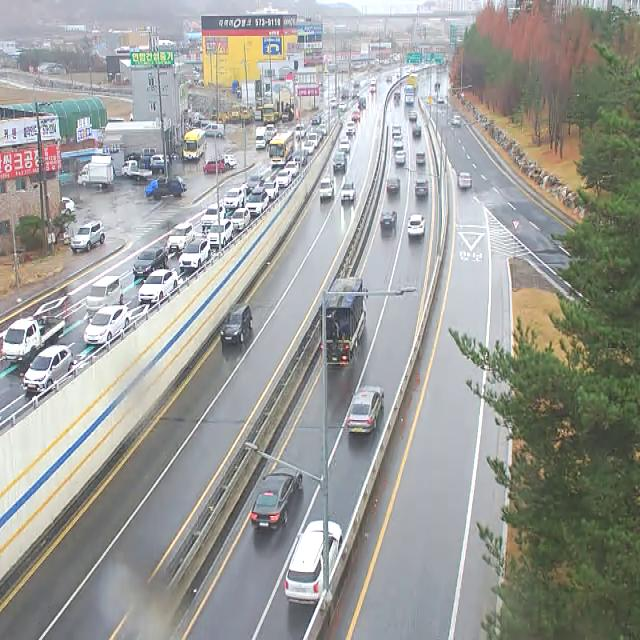Bus: (269, 132, 295, 166), (182, 128, 206, 160), (404, 85, 416, 105)
Car: (285, 522, 343, 604), (251, 469, 303, 528), (23, 346, 74, 391), (84, 305, 130, 345), (346, 386, 385, 433), (220, 304, 254, 344), (138, 270, 178, 304), (86, 276, 120, 312), (71, 220, 105, 254), (133, 247, 168, 276), (179, 239, 211, 269), (168, 224, 195, 250), (207, 220, 232, 248), (245, 188, 269, 214), (201, 206, 226, 229), (223, 188, 244, 208), (408, 215, 426, 237), (232, 209, 250, 231), (201, 123, 225, 138), (202, 159, 224, 174), (333, 152, 347, 175), (380, 210, 397, 228), (275, 170, 292, 188), (262, 183, 279, 200), (341, 183, 356, 202), (61, 197, 75, 216), (415, 178, 428, 198), (292, 150, 308, 166), (284, 161, 300, 177), (457, 172, 472, 189), (248, 176, 264, 190), (387, 177, 400, 194), (223, 155, 237, 170), (150, 155, 170, 165), (339, 138, 351, 154), (281, 109, 294, 122), (307, 134, 320, 146), (296, 124, 307, 138), (266, 125, 277, 138), (393, 136, 404, 149), (395, 151, 406, 164), (346, 121, 356, 135), (451, 115, 462, 127), (303, 142, 314, 154), (412, 125, 422, 138), (416, 152, 426, 165), (313, 129, 324, 140), (352, 110, 361, 122), (392, 124, 401, 136), (312, 114, 321, 126), (408, 111, 418, 121), (358, 97, 366, 109), (266, 133, 274, 144), (318, 124, 326, 135), (339, 102, 347, 112), (394, 90, 401, 100), (352, 90, 359, 99)
Truck: (321, 279, 368, 365), (2, 318, 65, 362), (75, 156, 112, 188), (151, 177, 187, 200), (122, 161, 152, 181), (138, 155, 164, 173), (320, 178, 334, 200), (262, 105, 278, 123), (256, 127, 266, 150), (370, 79, 377, 92)
